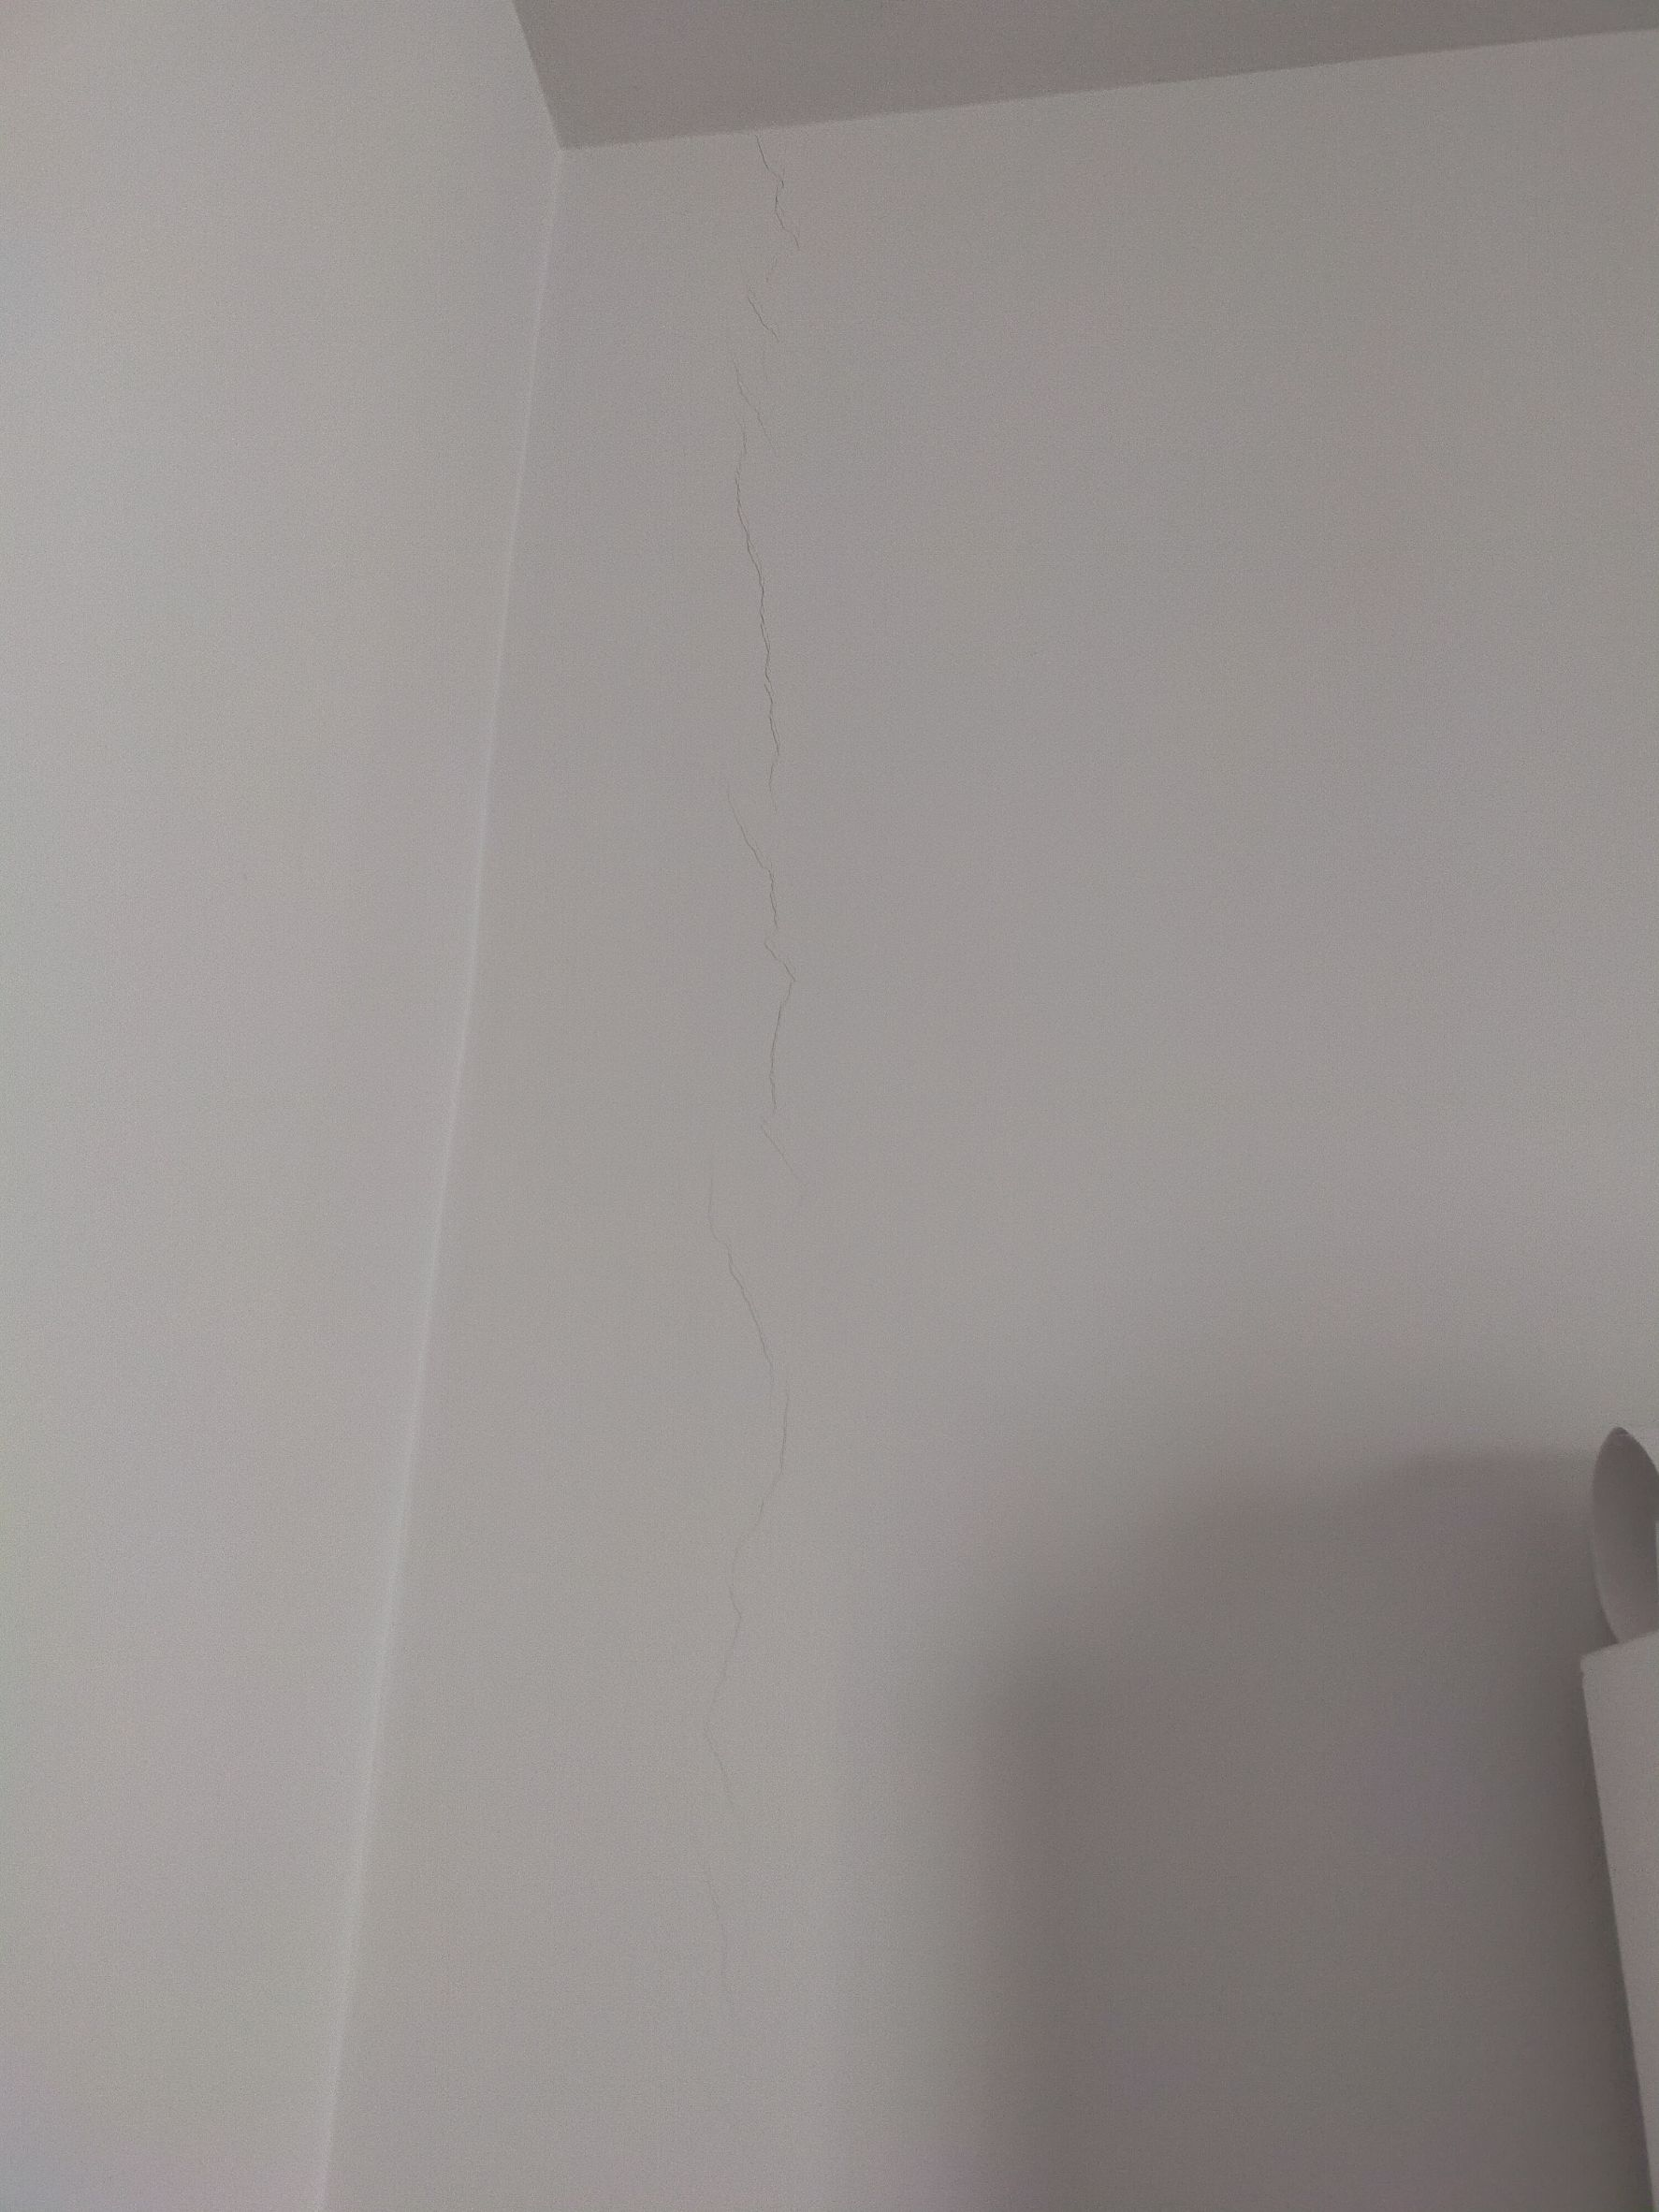Low: (599, 85, 967, 2127)
